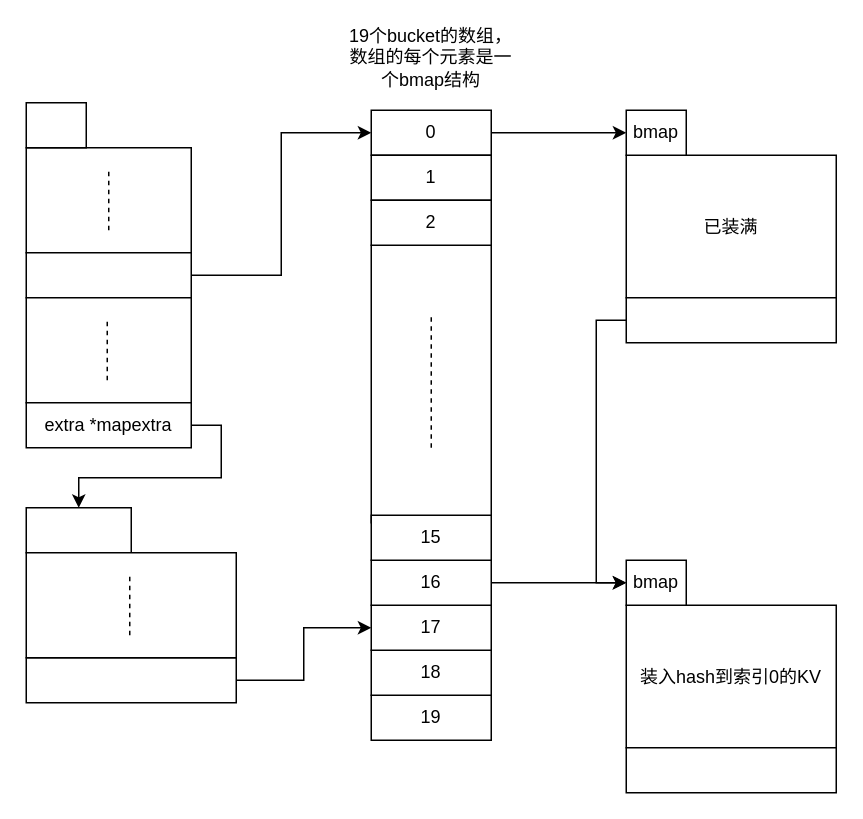
Some shapes in this 863 by 819 pixel diagram are drawn without their labels. Here are the shapes that lost their labels. From the top down, the centre of each, then its label:
the point at 55,124: hmap
the point at 108,274: buckets unsafe.pointer
the point at 730,319: overflow *bmap
the point at 78,529: mapextra
the point at 130,679: nextOverflow *bmap
the point at 730,769: overflow *bmap = nil
